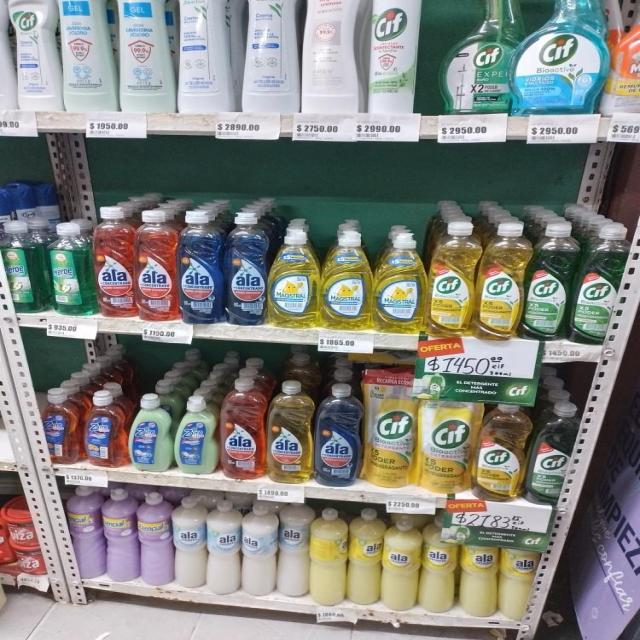ala_conc_amarillo: (267, 381, 313, 484)
ala_conc_azul: (179, 209, 222, 324), (225, 211, 267, 326), (315, 384, 362, 486)
ala_conc_rojo: (94, 206, 135, 319), (220, 378, 265, 480), (136, 208, 176, 322)
ala_crem_amarillo: (499, 528, 539, 621), (383, 512, 419, 612), (459, 528, 498, 618), (421, 522, 457, 614), (348, 508, 381, 606)
ala_crem_blanco: (242, 500, 276, 596), (207, 500, 240, 596), (173, 496, 206, 590), (278, 501, 309, 599)
cif_conc_bot_amarilla: (428, 220, 476, 337), (477, 220, 523, 339), (475, 402, 526, 500)
cif_conc_botella_verde: (572, 223, 622, 344), (524, 222, 570, 341), (529, 402, 578, 504)
cif_conc_sachet_amarillo: (364, 368, 416, 489), (419, 398, 472, 495)
magistral_con_amarillo: (374, 230, 426, 333), (321, 228, 372, 330), (269, 226, 319, 328)
zorro: (129, 393, 171, 473), (175, 395, 217, 475)
